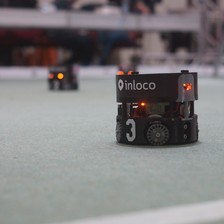robot: (113, 68, 201, 148), (47, 65, 78, 93)
